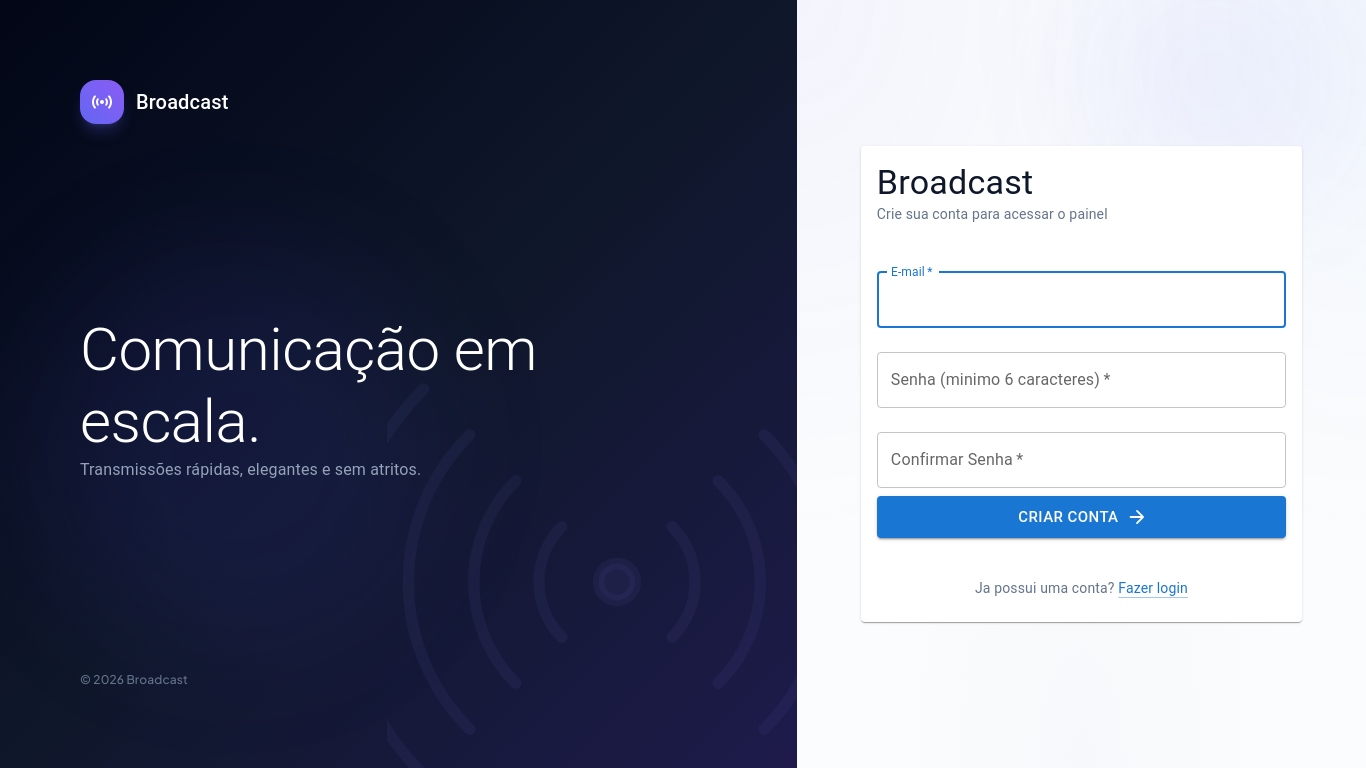
RegisterPage › deve validar se senhas nao coincidem
In the field labelled "E-mail *": (1081, 300) 877,272 -> 1286,328, type "novo@example.com"
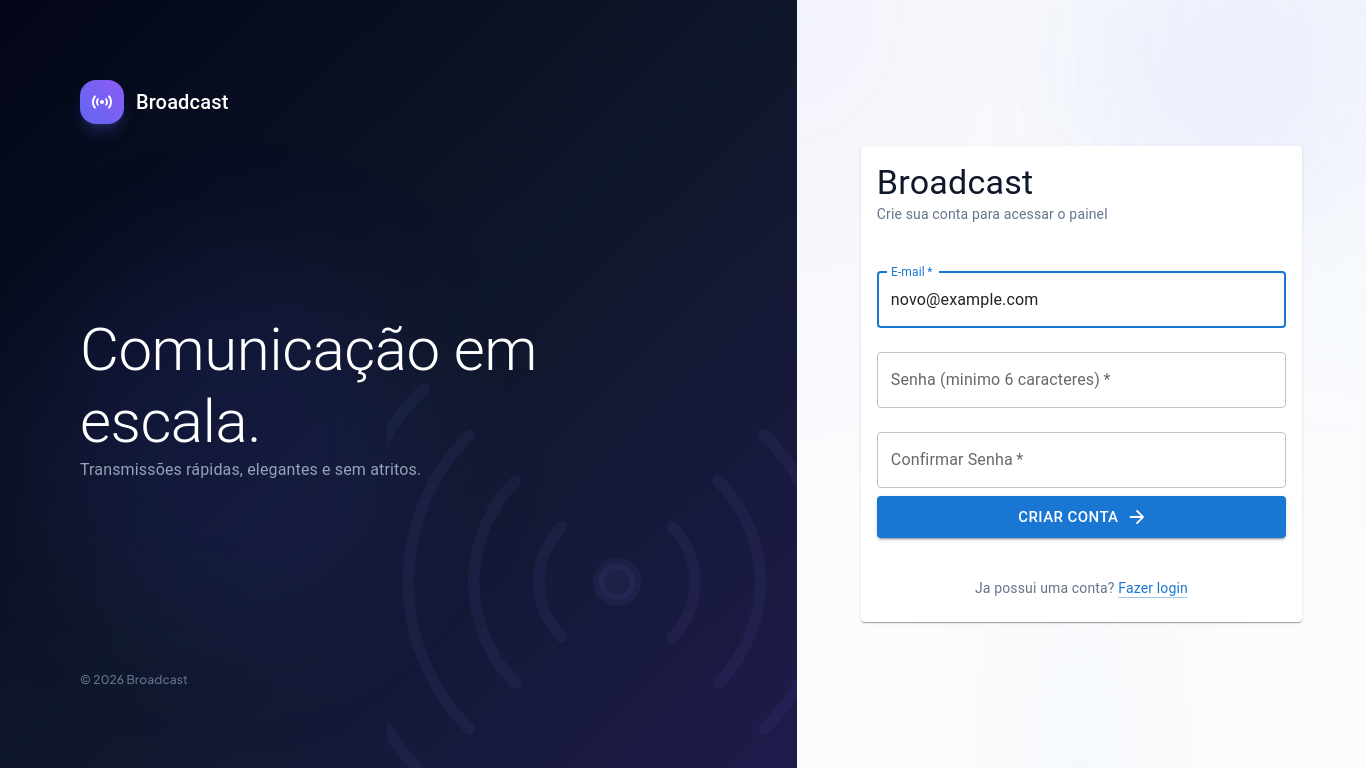
In the password field labelled "Senha (minimo 6 caracteres) *": (1081, 380) 877,352 -> 1286,408, type "123456"
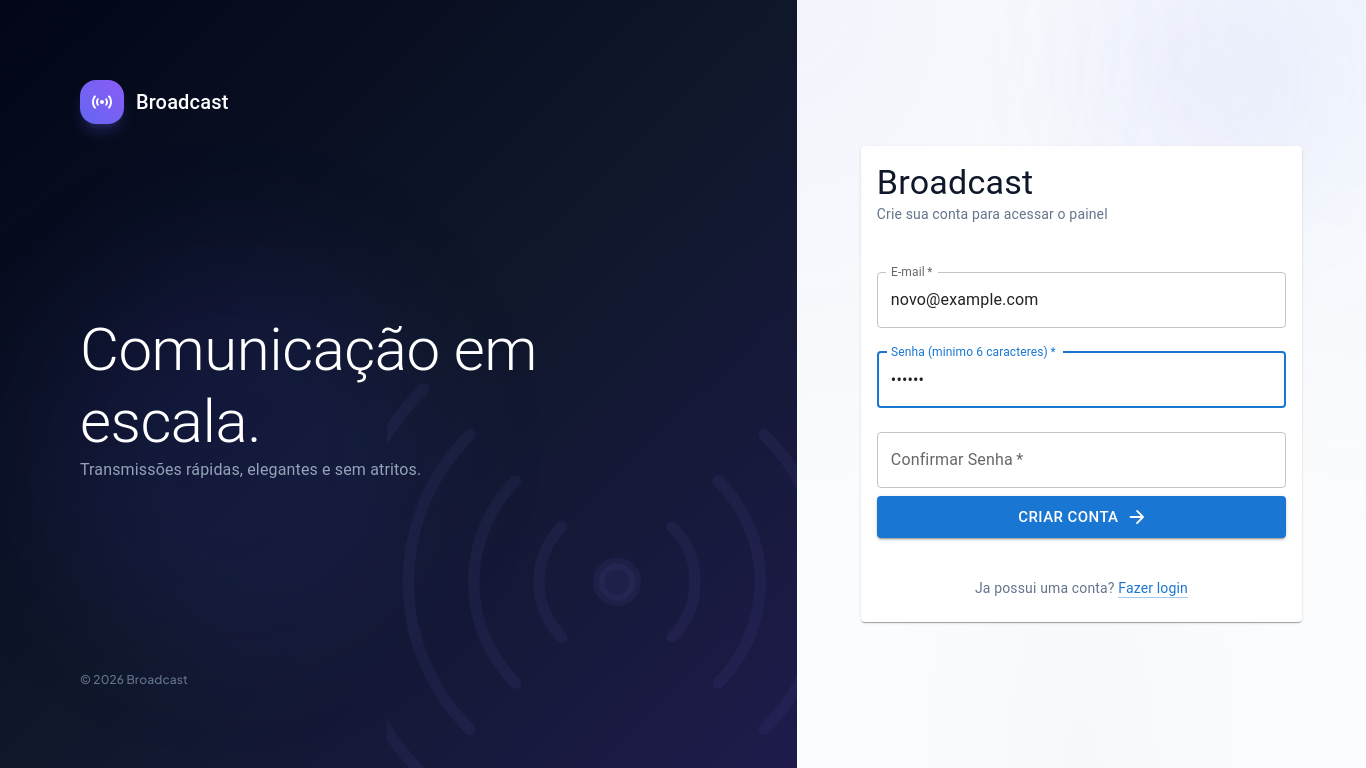
In the password field labelled "Confirmar Senha *": (1081, 460) 877,432 -> 1286,488, type "654321"
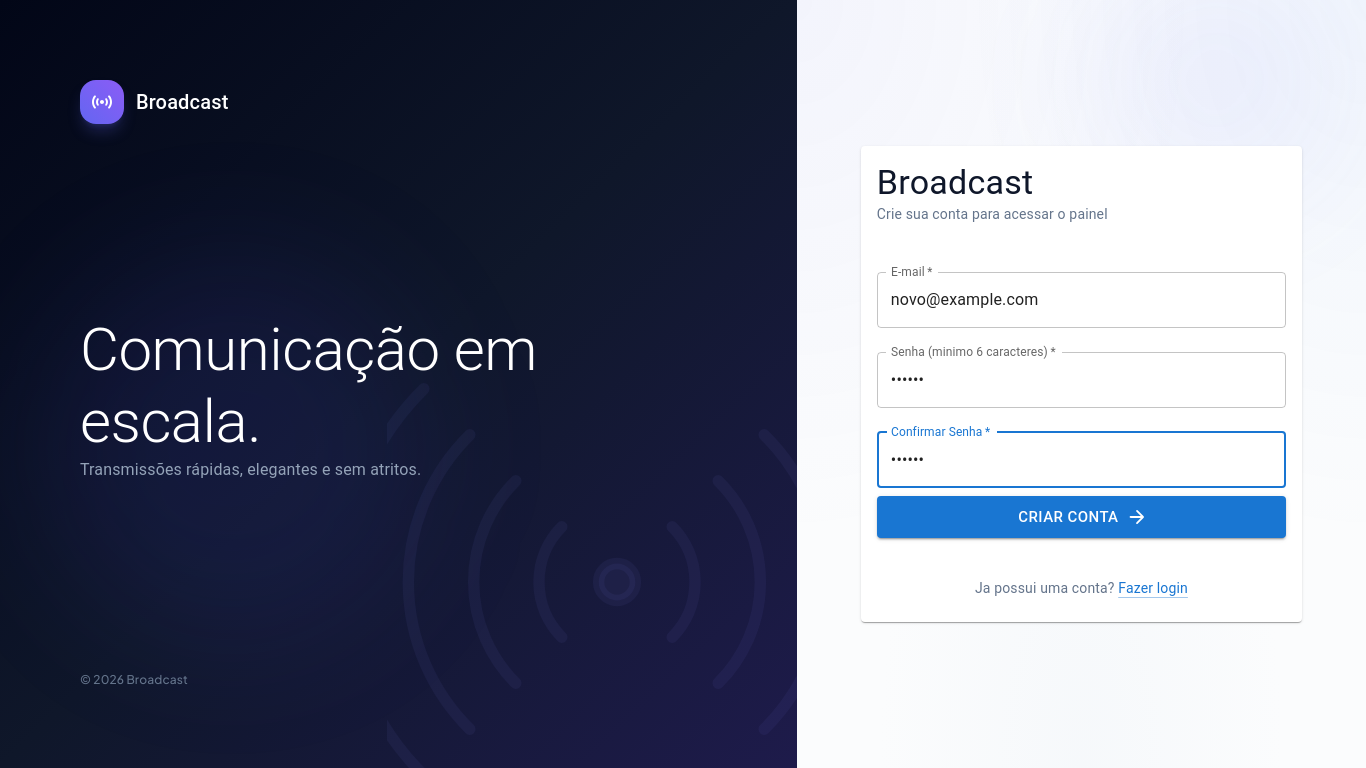
Click the button "Criar Conta": (1081, 517) 877,496 -> 1286,538
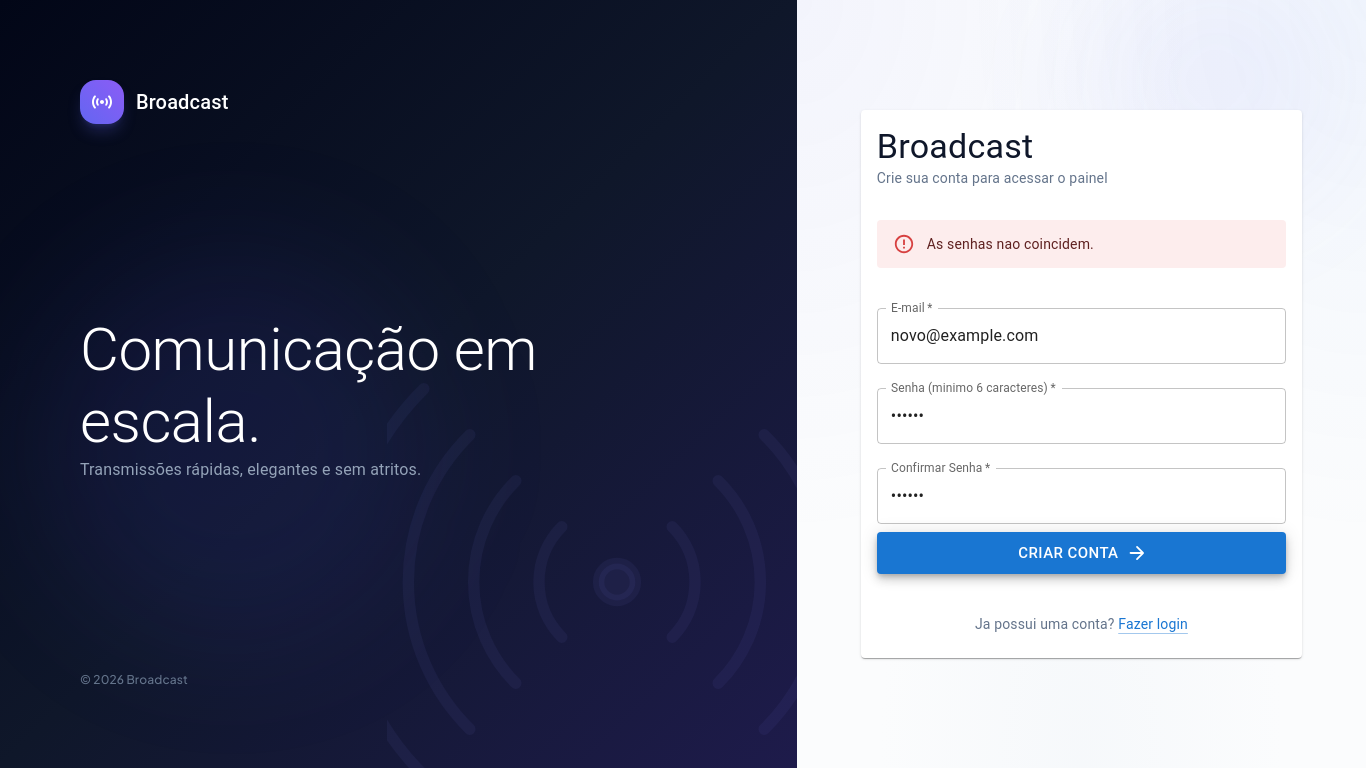
Expected: the text "As senhas nao coincidem." is shown, 927,236 -> 1094,252
